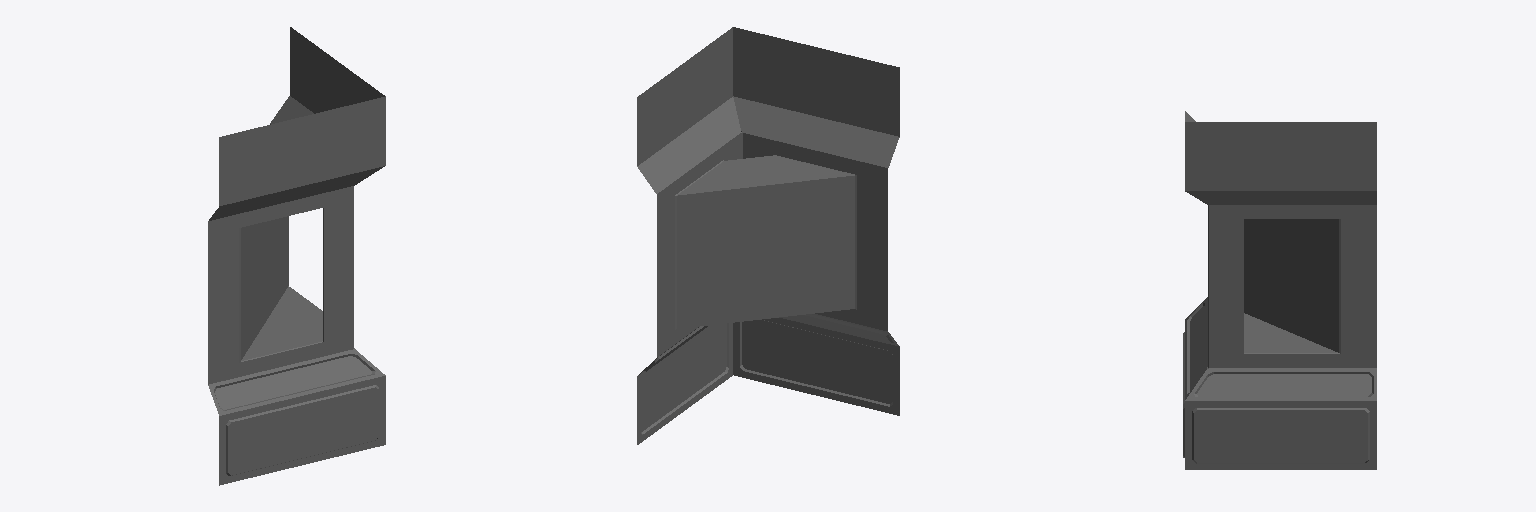
The model's file is WallCornerExt01_LP.obj.
3 renders of one model, left to right at view 1: azimuth 30°, elevation 25°; view 2: azimuth 150°, elevation 25°; view 3: azimuth 270°, elevation 25°, orthographic.
Parts seen in each view (by area): view 1: Plane002; view 2: Plane002; view 3: Plane002.
Boxes of the visible parts, box(x1,y1,x2,y2) form: Plane002: box(208, 27, 385, 485); Plane002: box(637, 27, 899, 444); Plane002: box(1183, 111, 1376, 469).
Bounding box in the file's own units: 259 × 512 × 259.